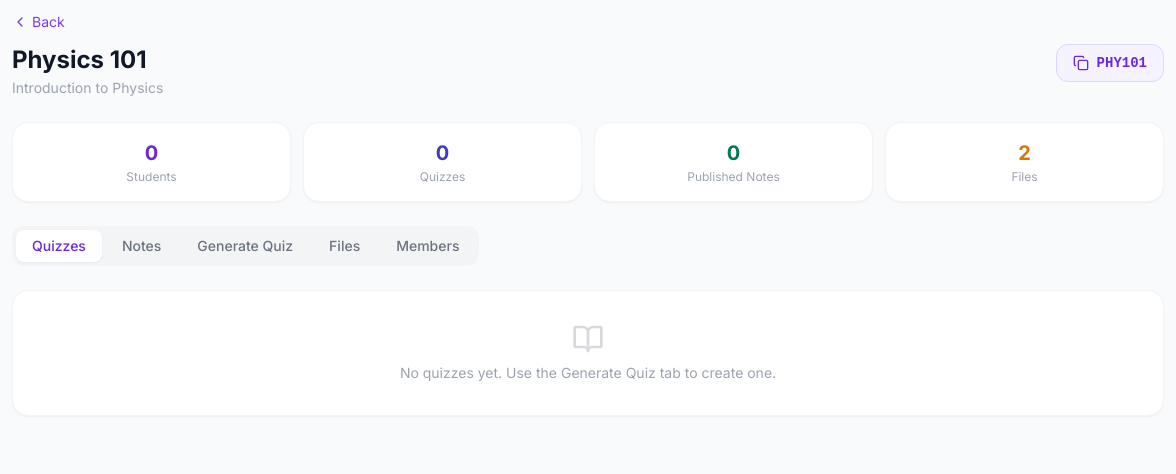
ClassView - FEAT-005 Story 5.3 (File Re-Access) › AC-5.3.1, AC-5.3.2: Display successfully processed files › renders filename and created_at for each file
Expected: the heading "Physics 101" is shown, [12, 44, 163, 76]
Wait for class to load, then switch to Files tab
What coordinates should you click on to do the following:
click the button "Files"
I would click on:
 (345, 246)
Its box is [313, 230, 376, 262].
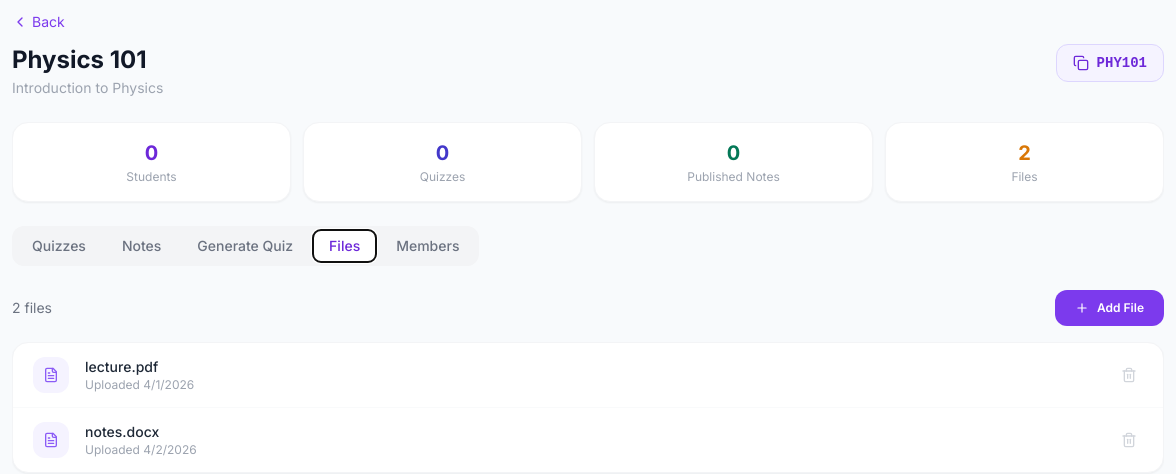
Expected: the text "lecture.pdf" is shown, [85, 358, 158, 375]
Expected: the text "notes.docx" is shown, [85, 423, 159, 440]
